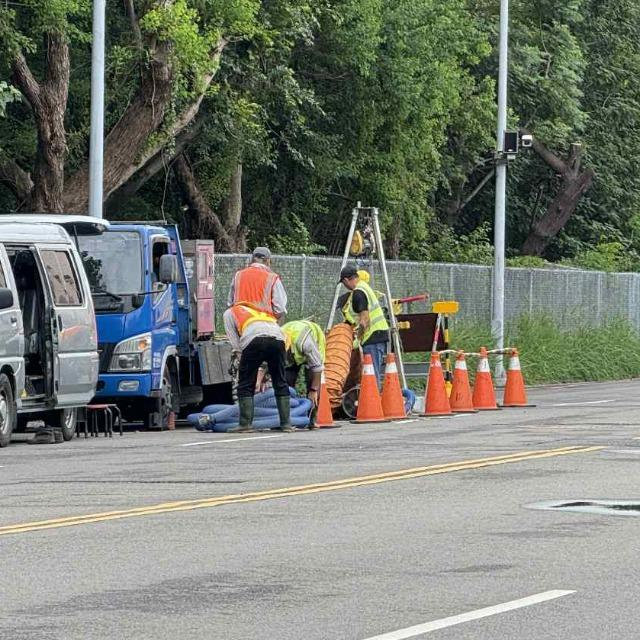Vest: (344, 281, 392, 340)
